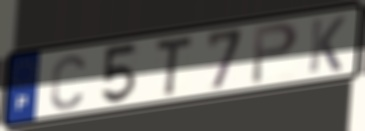5: (99, 40, 142, 107)
7: (205, 27, 246, 93)
C: (48, 53, 88, 113)
K: (306, 14, 348, 76)
P: (249, 19, 301, 87)
T: (152, 33, 194, 99)
